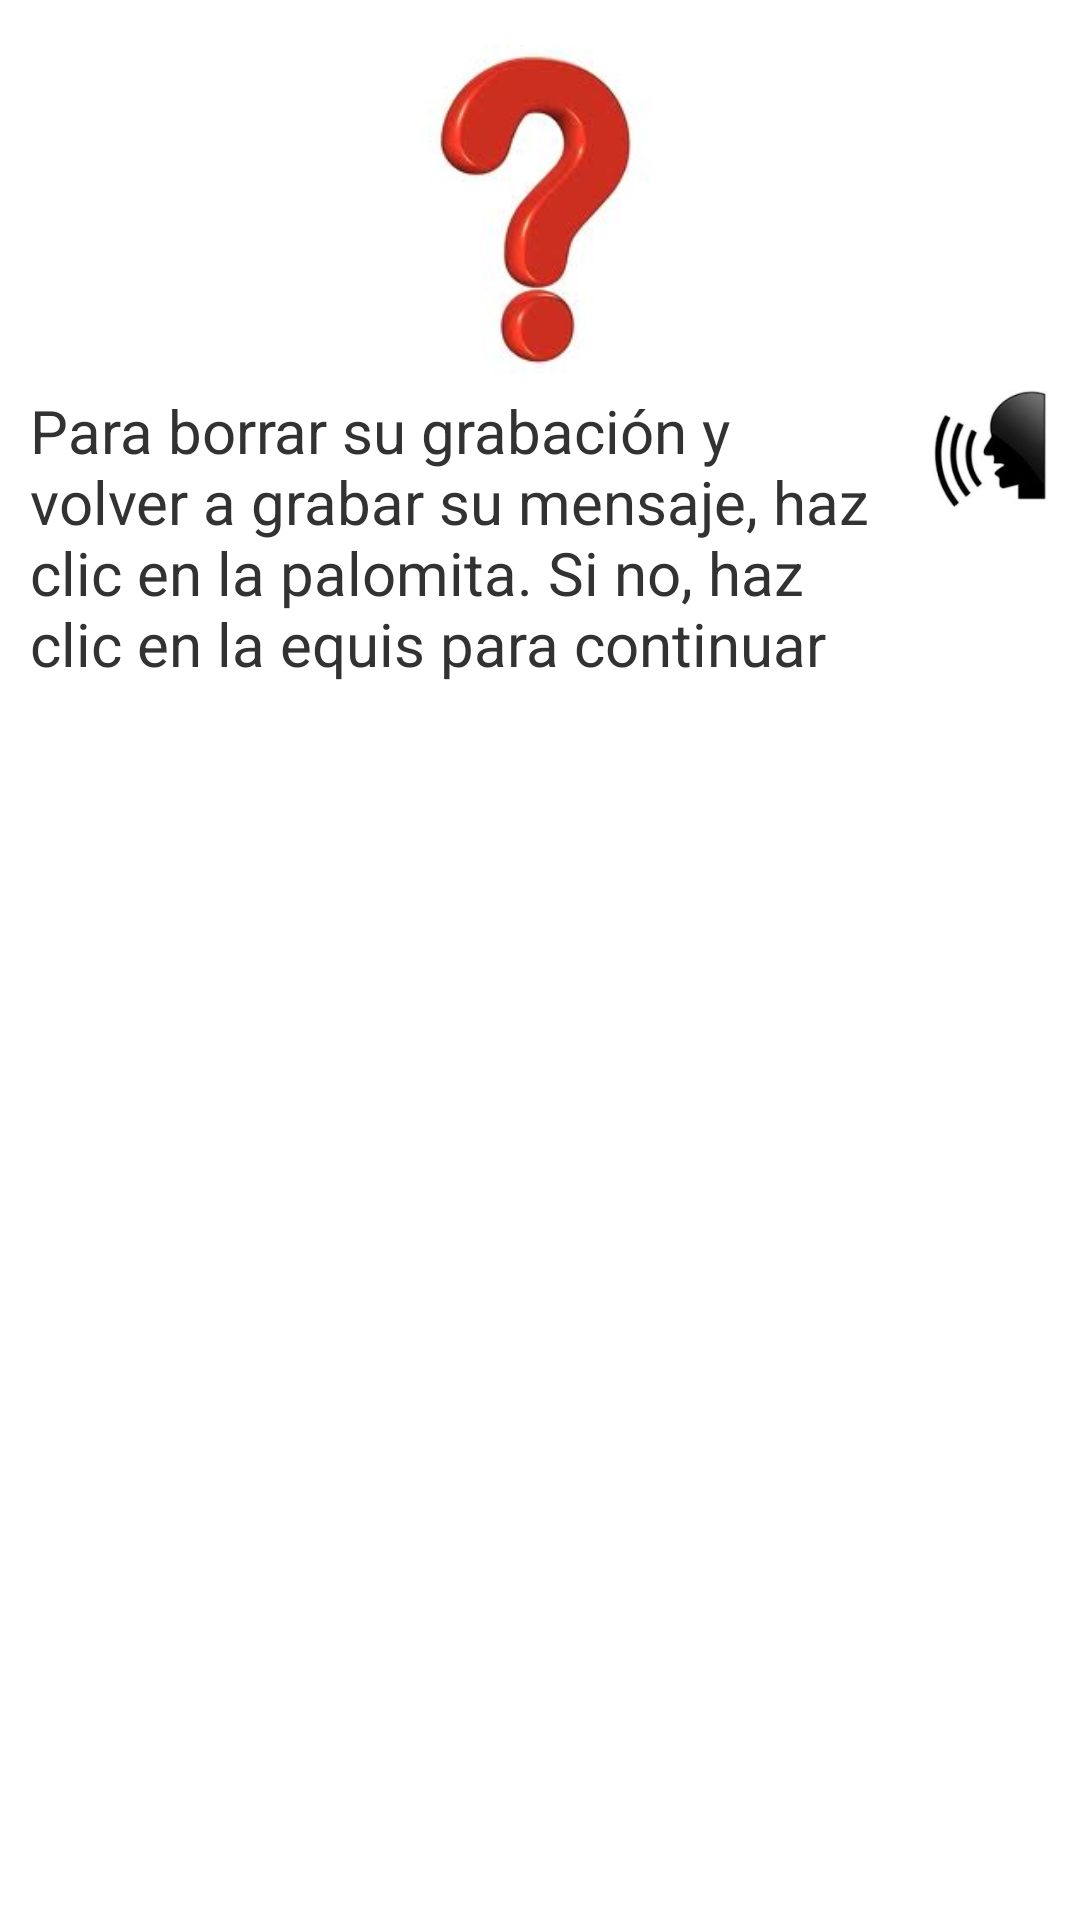

Where to tap for icons on this 1080×1920 app screen, as (x,y):
question mark: (535,209)
Sound Icon: (990,449)
